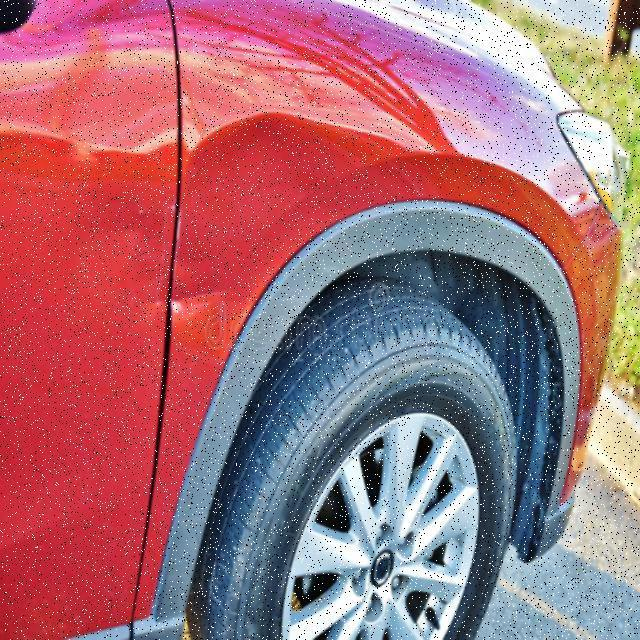fender-dent: (178, 89, 568, 376)
